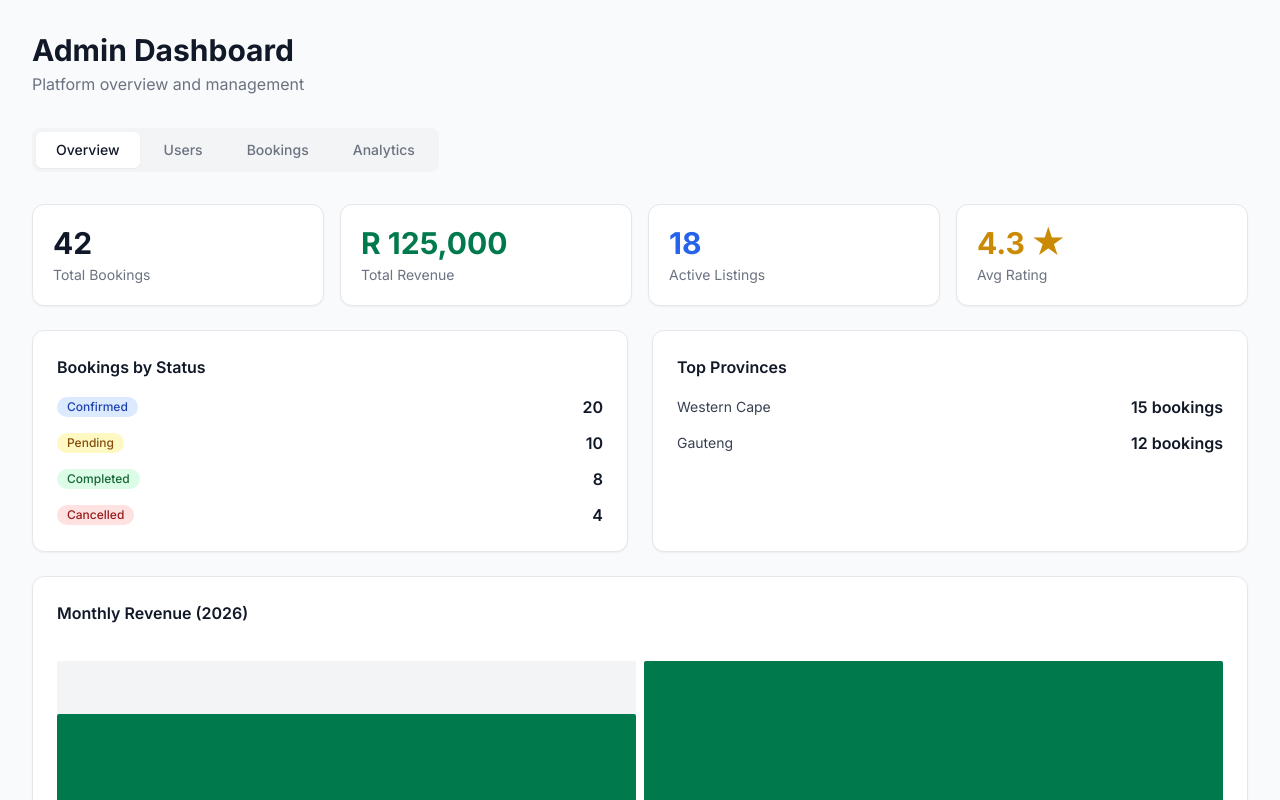
AdminDashboardPage › should switch to users tab and show users
This screenshot has width=1280, height=800.
Expected: the heading "Admin Dashboard" is shown, [32,32,294,68]
Click the button "users": (183,150) [144,132,223,168]
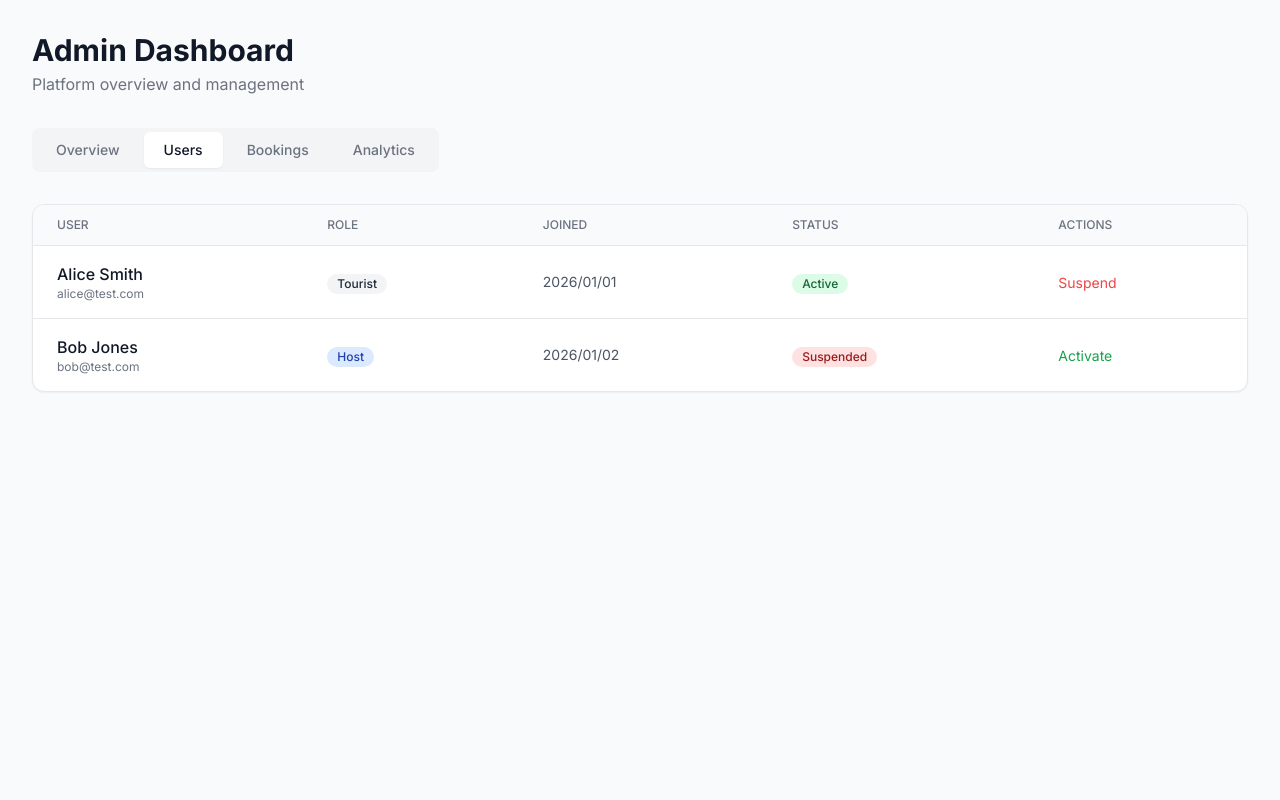
Expected: the text "Alice Smith" is shown, [57,264,143,284]
Expected: the text "alice@test.com" is shown, [57,286,144,301]
